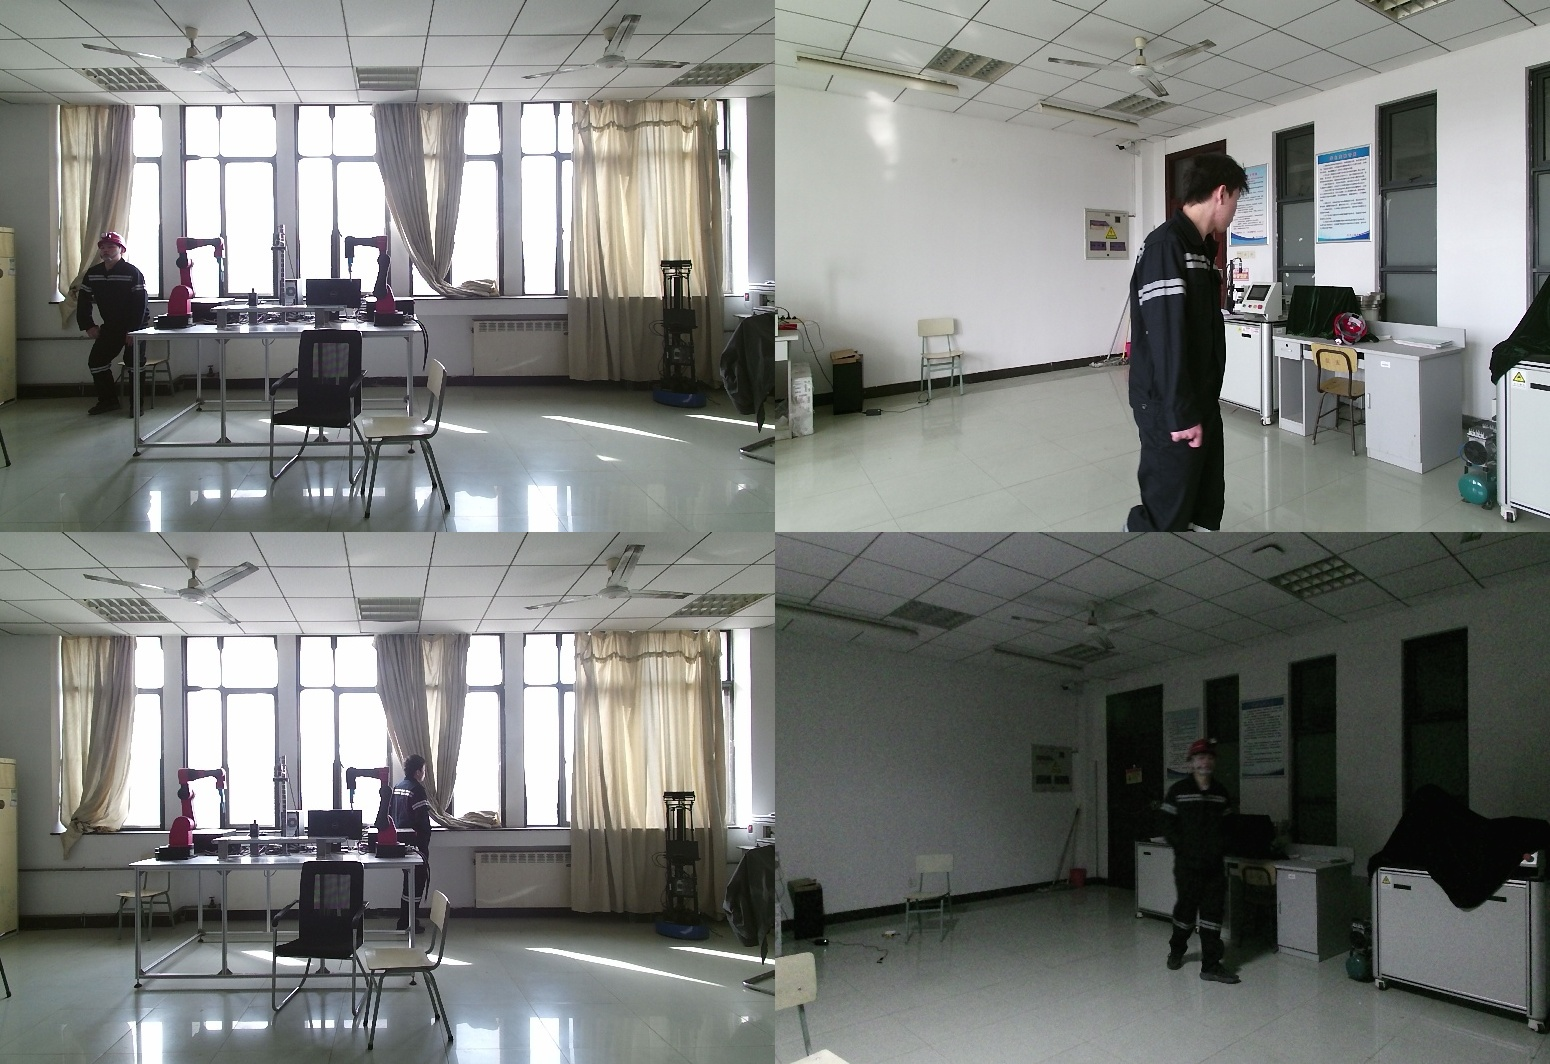person: (1123, 148, 1260, 532), (1145, 741, 1244, 985), (70, 229, 149, 417), (394, 754, 440, 945)
